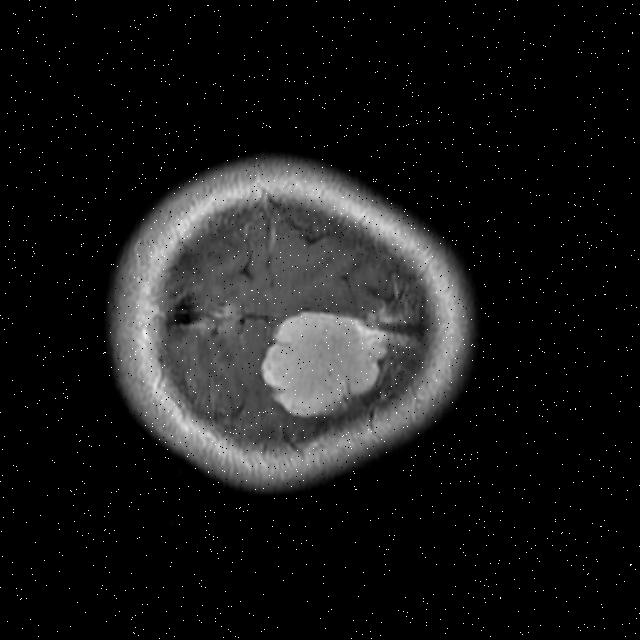Meningioma: (254, 307, 389, 421)
